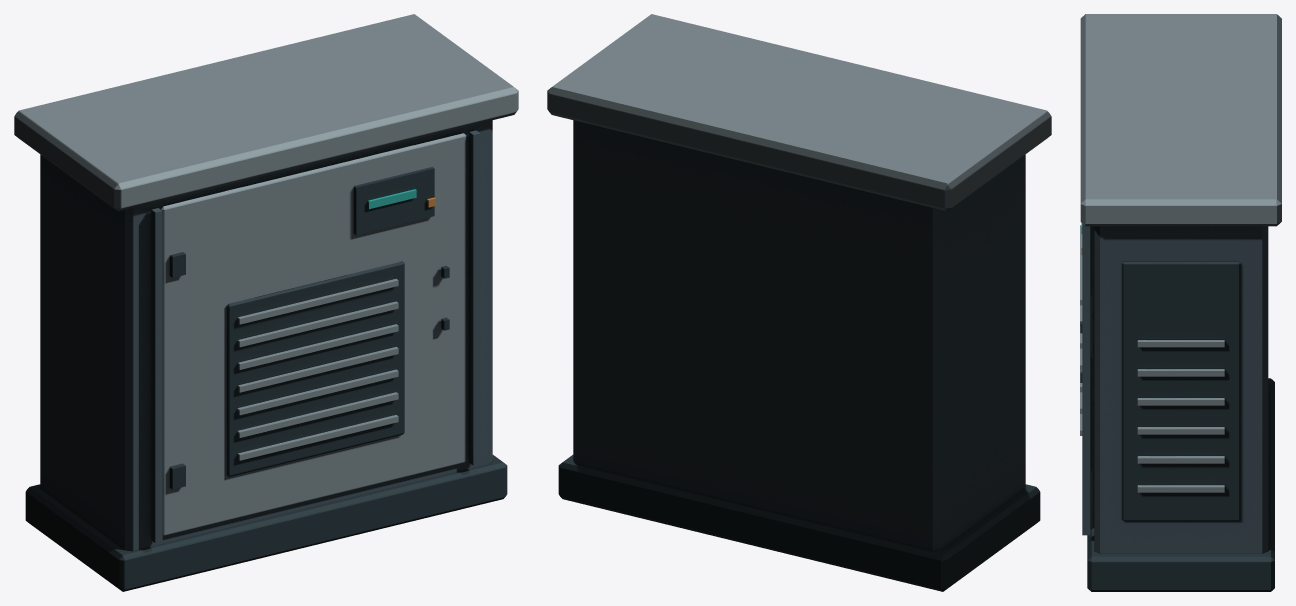
The model's file is 0-20261016-1900-ev047-r08-floor5-coolingunit_baked.glb.
3 renders of one model, left to right at view 1: azimuth 30°, elevation 25°; view 2: azimuth 150°, elevation 25°; view 3: azimuth 270°, elevation 25°, orthographic. The views are drawn at different scales.
Parts seen in each view (by area): view 1: SW_Ops_CoolingUnit; view 2: SW_Ops_CoolingUnit; view 3: SW_Ops_CoolingUnit.
Boxes of the visible parts, x1,y1,x2,y2 form: SW_Ops_CoolingUnit: (14,14,518,591); SW_Ops_CoolingUnit: (547,14,1051,591); SW_Ops_CoolingUnit: (1080,14,1281,591).
Size of the model in its own units: 1.96 by 1.91 by 0.882.
Materials: 1 (1 with a texture image).
